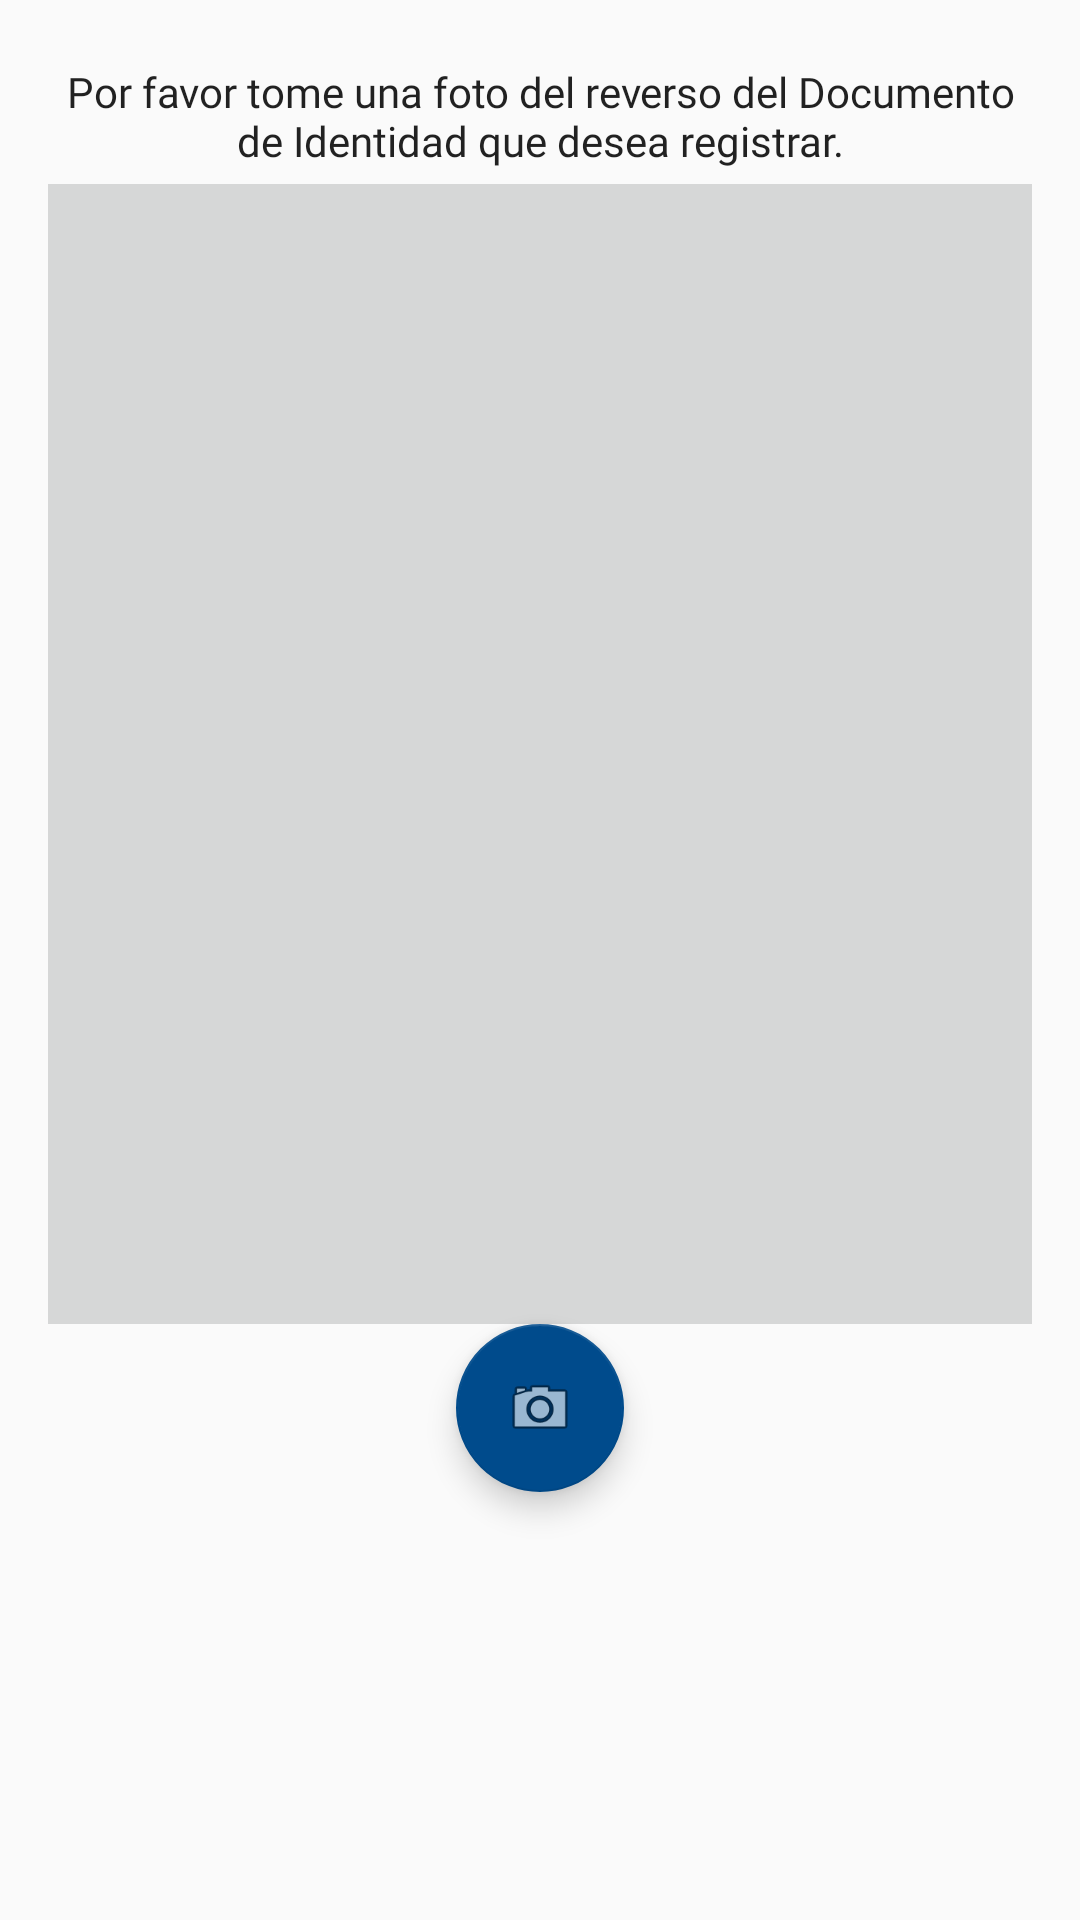

Screen size 1080px x 1920px. Icon name, then its center in pixels as [x,y]:
camera: [540,1408]
